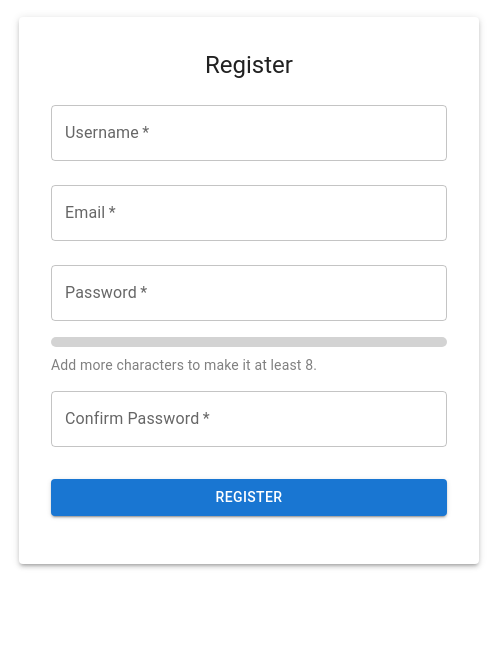
Scenario: Registration Component Tests › should display an error message if registration fails (e.g., email exists)
Type "testuser" into the field labelled "Username *" at (249, 133), box [51,105,447,161]
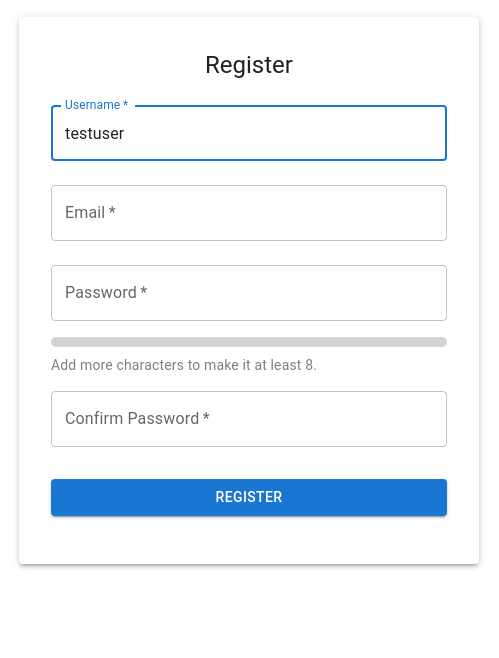
Type "testuser@bu.edu" into the field labelled "Email *" at (249, 213), box [51,185,447,241]
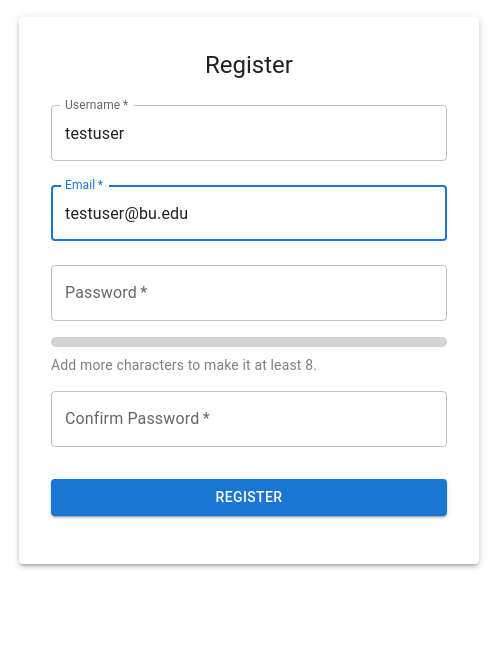
Type "Password123!" into the password field labelled "Password *" at (249, 293), box [51,265,447,321]
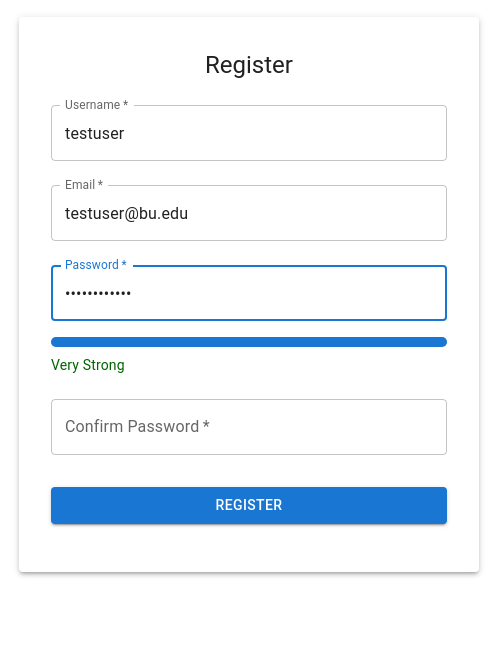
Type "Password123!" into the password field labelled "Confirm Password *" at (249, 427), box [51,399,447,455]
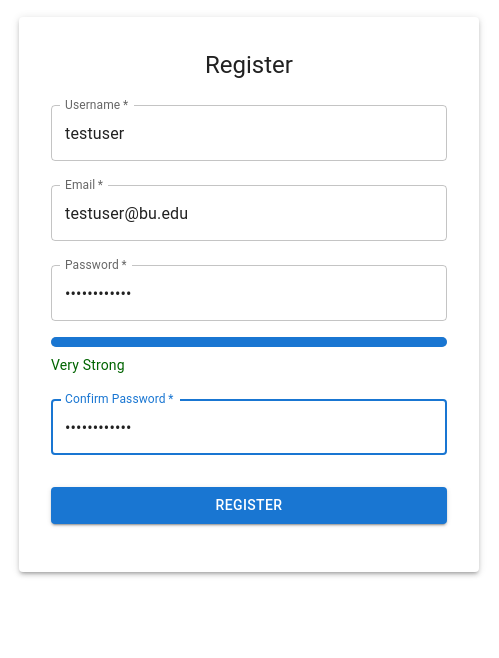
Click the button "Register" at (249, 506), box [51,487,447,524]
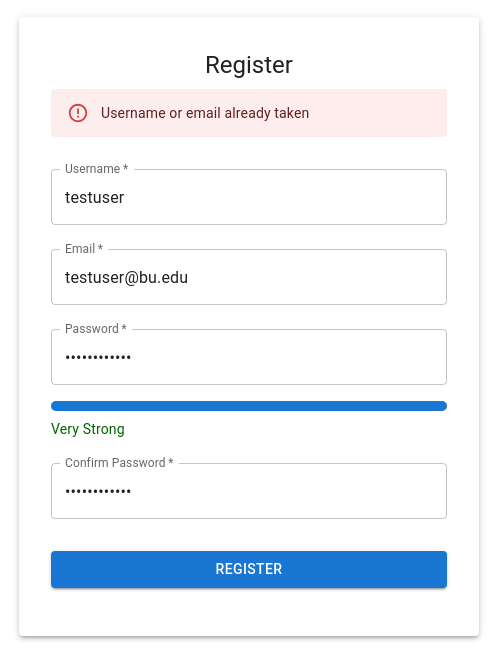
Check: the text "Username or email already taken" is shown, box [101,105,309,121]
